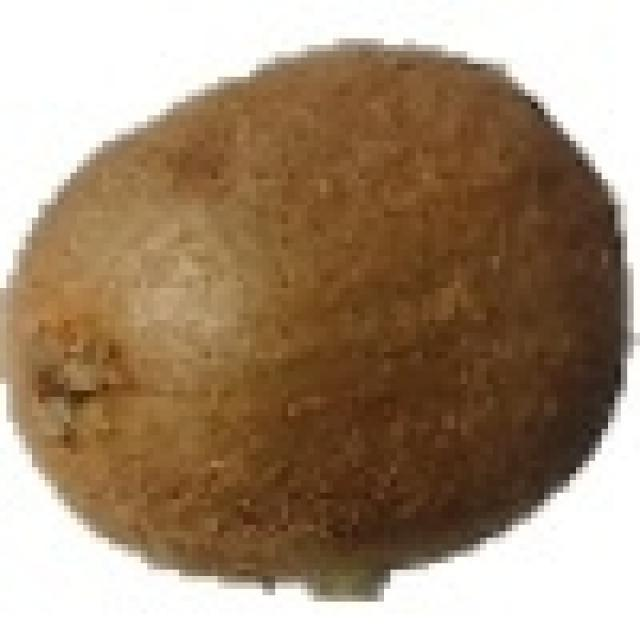kiwi: (6, 38, 614, 582)
